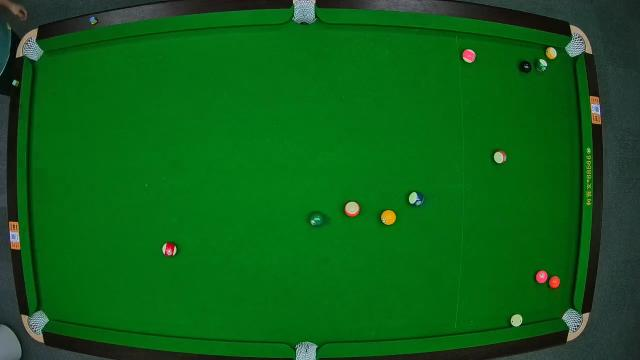bag1: (22, 38, 44, 60)
bag2: (291, 0, 317, 26)
bag3: (566, 29, 588, 57)
bag4: (29, 310, 49, 334)
bag5: (294, 340, 318, 360)
bag6: (563, 308, 585, 332)
ball0: (508, 312, 524, 328)
ball1: (380, 210, 396, 226)
ball10: (408, 191, 424, 207)
ball11: (162, 243, 176, 257)
ball12: (462, 48, 474, 64)
ball13: (344, 200, 361, 218)
ball14: (536, 59, 548, 73)
ball15: (494, 150, 506, 164)
ball4: (535, 269, 549, 283)
ball5: (550, 276, 562, 292)
ball6: (310, 212, 326, 228)
ball8: (516, 60, 532, 74)
ball9: (544, 46, 558, 60)
